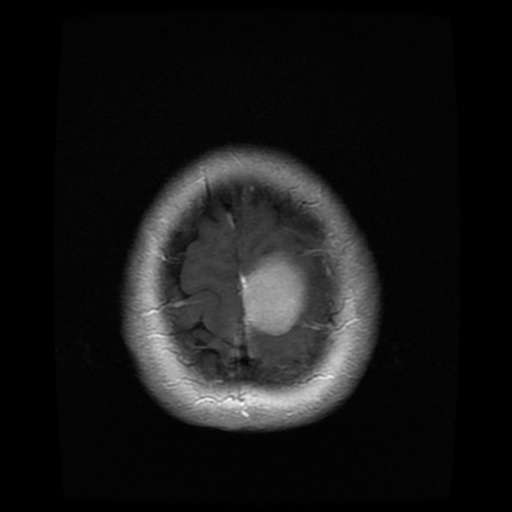meningioma: (241, 253, 308, 333)
